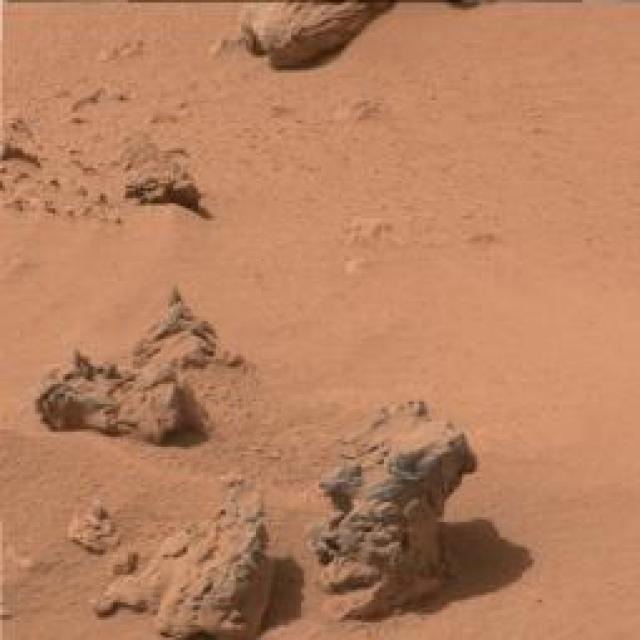rock: (306, 402, 478, 622), (138, 481, 278, 640), (34, 348, 195, 440), (235, 0, 398, 71), (126, 284, 222, 362), (114, 127, 200, 205), (67, 488, 123, 552), (88, 573, 146, 617), (108, 546, 136, 572)
